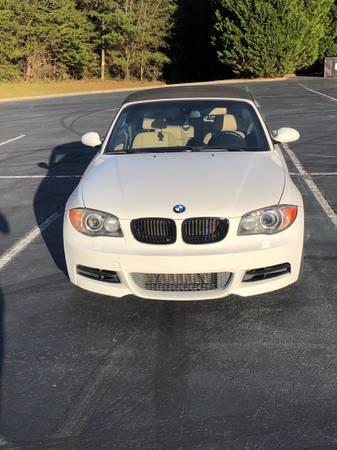Front_Bumper: (66, 207, 307, 301)
Front_Windshield: (100, 97, 271, 153)
Grille: (118, 215, 244, 245)
Hood: (68, 151, 301, 219)
Left_Headlight: (237, 204, 303, 237)
Left_Mirror: (273, 125, 301, 144)
Right_Headlight: (64, 208, 122, 240)
Right_Mirror: (79, 132, 103, 148)
Roof: (122, 82, 252, 105)
